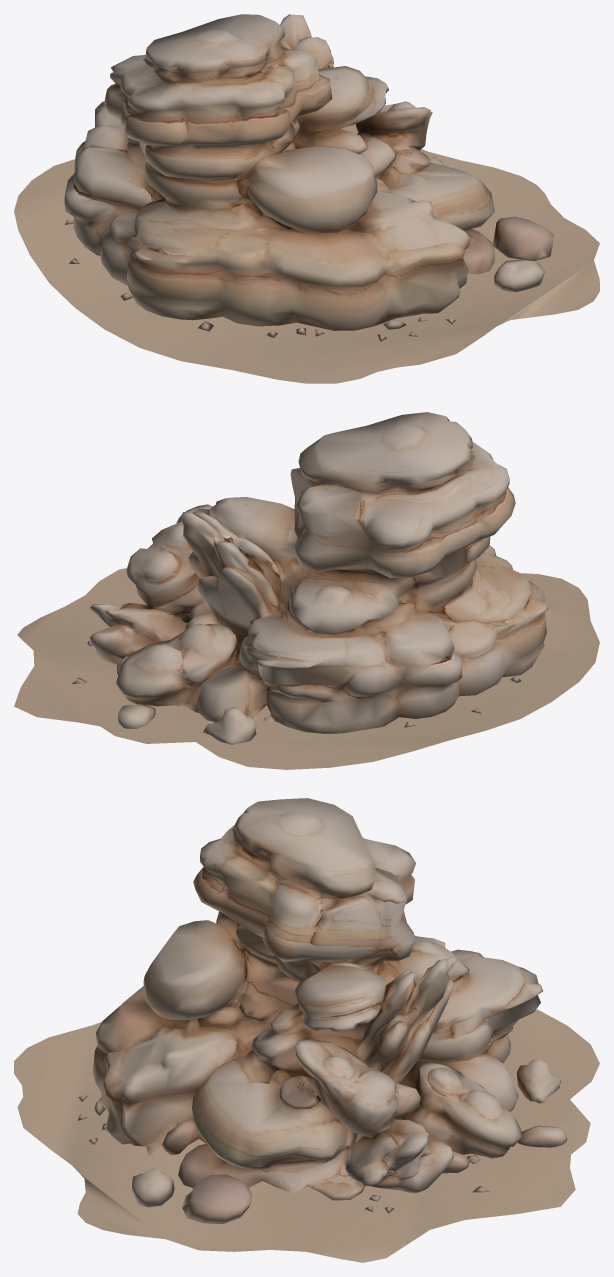
The model's file is tripo_convert_e5a05193-f479-47cb-82de-838b32aee442.fbx.
3 views of the same model, one above another, from view 1: azimuth 30°, elevation 25°; view 2: azimuth 150°, elevation 25°; view 3: azimuth 270°, elevation 25° (orthographic). The views are drawn at different scales.
Visible parts, largest first — view 1: tripo_node_e5a05193; view 2: tripo_node_e5a05193; view 3: tripo_node_e5a05193.
Boxes of the visible parts, x1,y1,x2,y2 form: tripo_node_e5a05193: [14, 14, 599, 383]; tripo_node_e5a05193: [14, 412, 599, 769]; tripo_node_e5a05193: [14, 798, 599, 1262].
Size of the model in its own units: 0.998 by 0.502 by 0.9902.
Materials: 1 (1 with a texture image).
